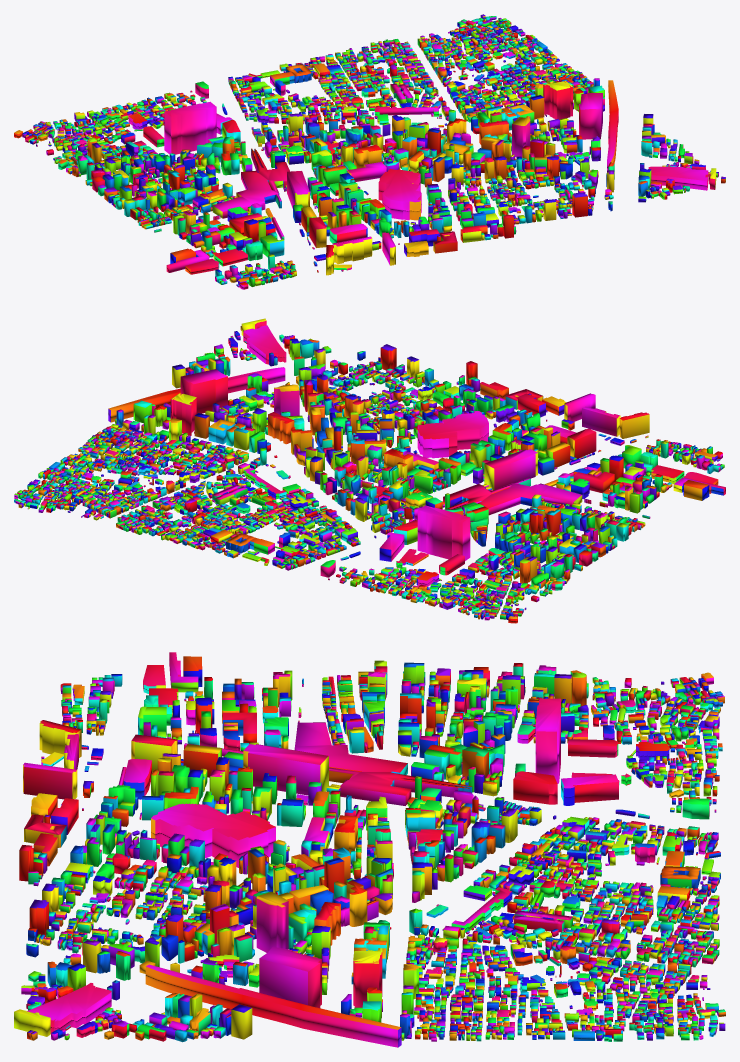
The model's file is kogakuin_rainbow.fbx.
The picture shows the model from 3 angles, top to bottom: view 1: azimuth 30°, elevation 25°; view 2: azimuth 150°, elevation 25°; view 3: azimuth 270°, elevation 25°; orthographic projection. The views are drawn at different scales.
Parts seen in each view (by area): view 1: BLD_b2dae85e-ccd0-4c50-bcda-f9fb702daa5d1; view 2: BLD_b2dae85e-ccd0-4c50-bcda-f9fb702daa5d1; view 3: BLD_b2dae85e-ccd0-4c50-bcda-f9fb702daa5d1.
Part boxes in pixels (x1=…): BLD_b2dae85e-ccd0-4c50-bcda-f9fb702daa5d1: x1=14, y1=14, x2=725, y2=289; BLD_b2dae85e-ccd0-4c50-bcda-f9fb702daa5d1: x1=14, y1=318, x2=725, y2=623; BLD_b2dae85e-ccd0-4c50-bcda-f9fb702daa5d1: x1=14, y1=652, x2=725, y2=1047.
Bounding box in the file's own units: 1220 × 87.05 × 955.
